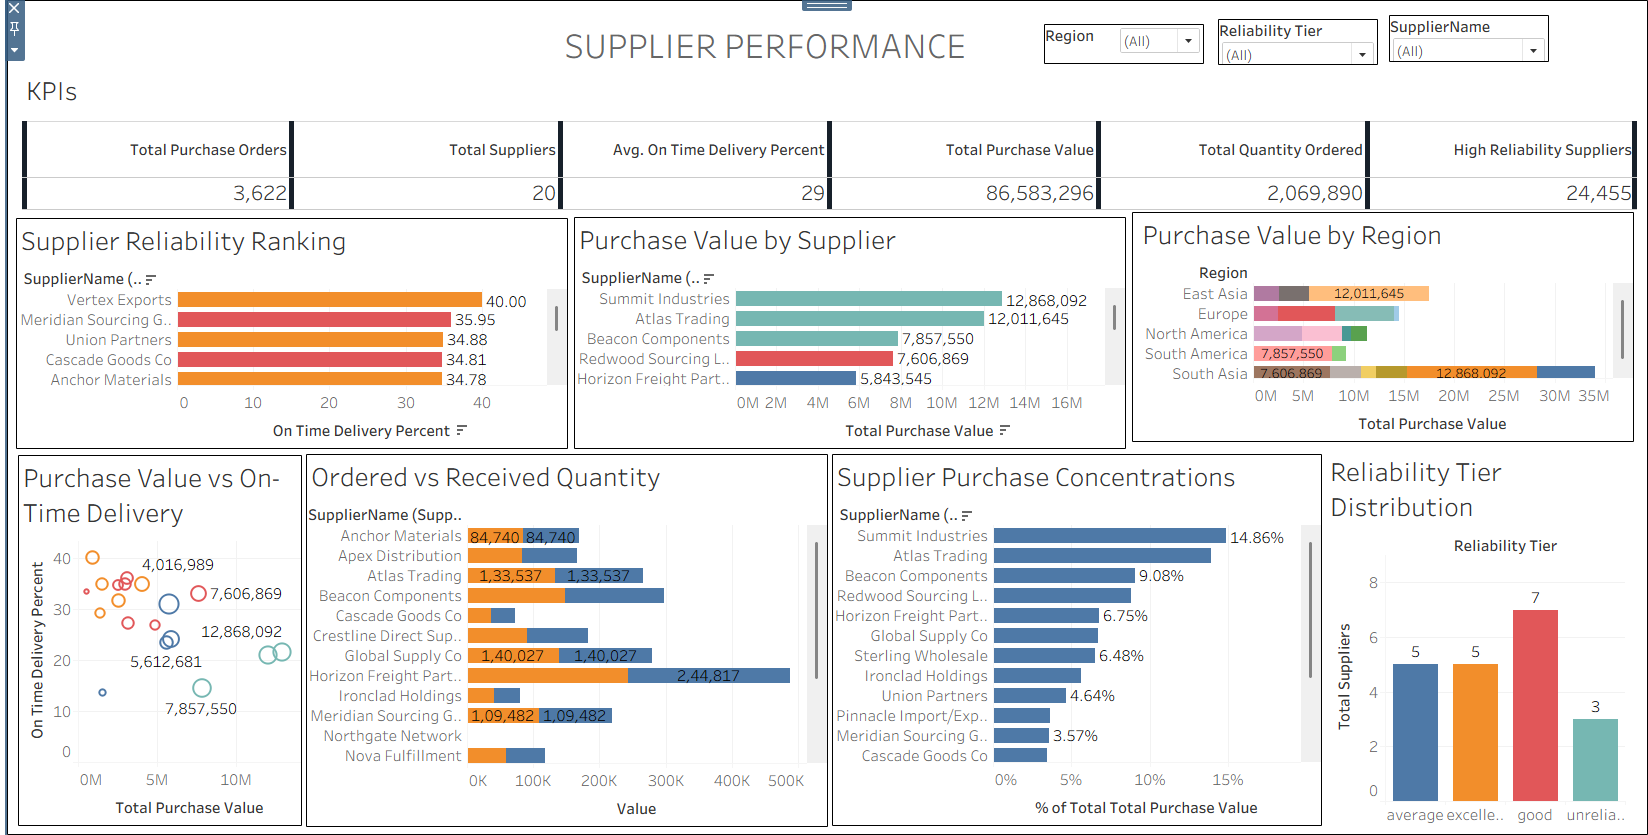

What the dashboard file says about the page in this screenshot:
{"tool":"tableau","page":{"name":"Dashboard 4","canvas":[1000,1000],"units":"permille","ordinal":3},"visuals":[{"type":"text","box":[305.8,21.2,274.8,99.9]},{"type":"worksheet","title":"KPIS","mark":"Automatic","box":[10,148.1,981.2,163.3]},{"type":"worksheet","title":"Purchase Value by Supplier","mark":"Automatic","rows":["SupplierName (SupplierData)"],"cols":["TotalPurchaseValue"],"box":[345.1,314.9,333.3,277.3]},{"type":"worksheet","title":" Purchase Value by Region","mark":"Automatic","rows":["Region"],"cols":["TotalPurchaseValue"],"box":[680.7,316.1,310.5,276.2]},{"type":"worksheet","title":"Supplier Reliability Ranking","mark":"Automatic","rows":["SupplierName (SupplierData)"],"cols":["OnTimeDeliveryPercent"],"box":[10,318.4,333.3,275]},{"type":"worksheet","title":"Ordered vs Received Quantity","mark":"Automatic","rows":["SupplierName (SupplierData)"],"box":[232.6,599.3,333.3,379.6]},{"type":"worksheet","title":"Purchase Value vs On-Time Delivery","mark":"Automatic","rows":["OnTimeDeliveryPercent"],"cols":["TotalPurchaseValue"],"box":[10.5,600.5,220.3,380.7]},{"type":"legend","title":"Reliability Tier Distribution","param":"[federated.1yzdc2c00ja9bw13nnmf20dqdd4y].[none:ReliabilityTier:nk]","box":[475.1,600.5,82,124.6]},{"type":"worksheet","title":"Reliability Tier Distribution","mark":"Automatic","rows":["SupplierID (SupplierData)"],"cols":["ReliabilityTier"],"box":[568.8,600.5,150,374.9]},{"type":"worksheet","title":"Supplier Purchase Concentrations","mark":"Automatic","rows":["SupplierName (SupplierData)"],"cols":["TotalPurchaseValue"],"box":[722.3,600.5,268.9,381.9]}]}

Visuals, with their boxes on the dashboard's canvas, which has no fixed pixel size, in thousandths of its width and height (x1, y1, x2, y2). These are canvas units, not pixel positions in the 1648x835 screenshot, which may show the page scaled, cropped or inside an application window:
text: (left=306, top=21, right=581, bottom=121)
"KPIS" worksheet: (left=10, top=148, right=991, bottom=311)
"Purchase Value by Supplier" worksheet: (left=345, top=315, right=678, bottom=592)
" Purchase Value by Region" worksheet: (left=681, top=316, right=991, bottom=592)
"Supplier Reliability Ranking" worksheet: (left=10, top=318, right=343, bottom=593)
"Ordered vs Received Quantity" worksheet: (left=233, top=599, right=566, bottom=979)
"Purchase Value vs On-Time Delivery" worksheet: (left=10, top=600, right=231, bottom=981)
"Reliability Tier Distribution" legend: (left=475, top=600, right=557, bottom=725)
"Reliability Tier Distribution" worksheet: (left=569, top=600, right=719, bottom=975)
"Supplier Purchase Concentrations" worksheet: (left=722, top=600, right=991, bottom=982)
